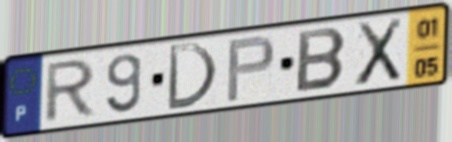9: (104, 52, 144, 116)
B: (293, 26, 350, 95)
D: (164, 41, 220, 113)
P: (224, 33, 278, 105)
R: (41, 56, 100, 126)
X: (353, 15, 405, 90)
